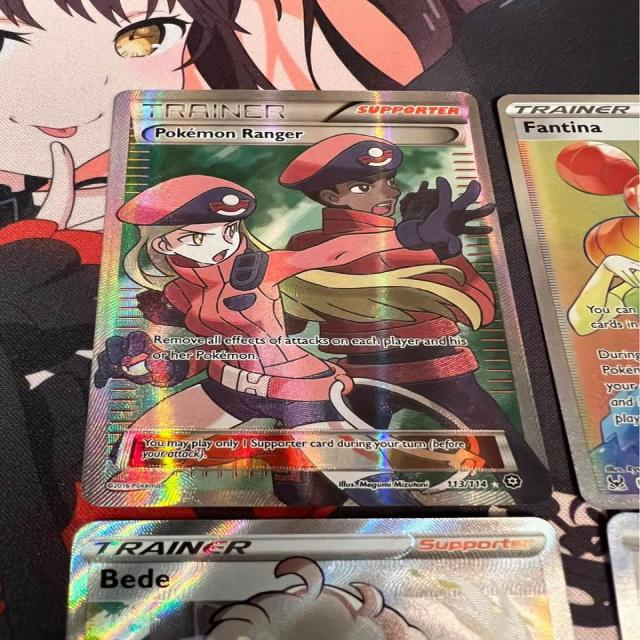card: (79, 88, 558, 507), (63, 515, 577, 640), (495, 93, 640, 511)
